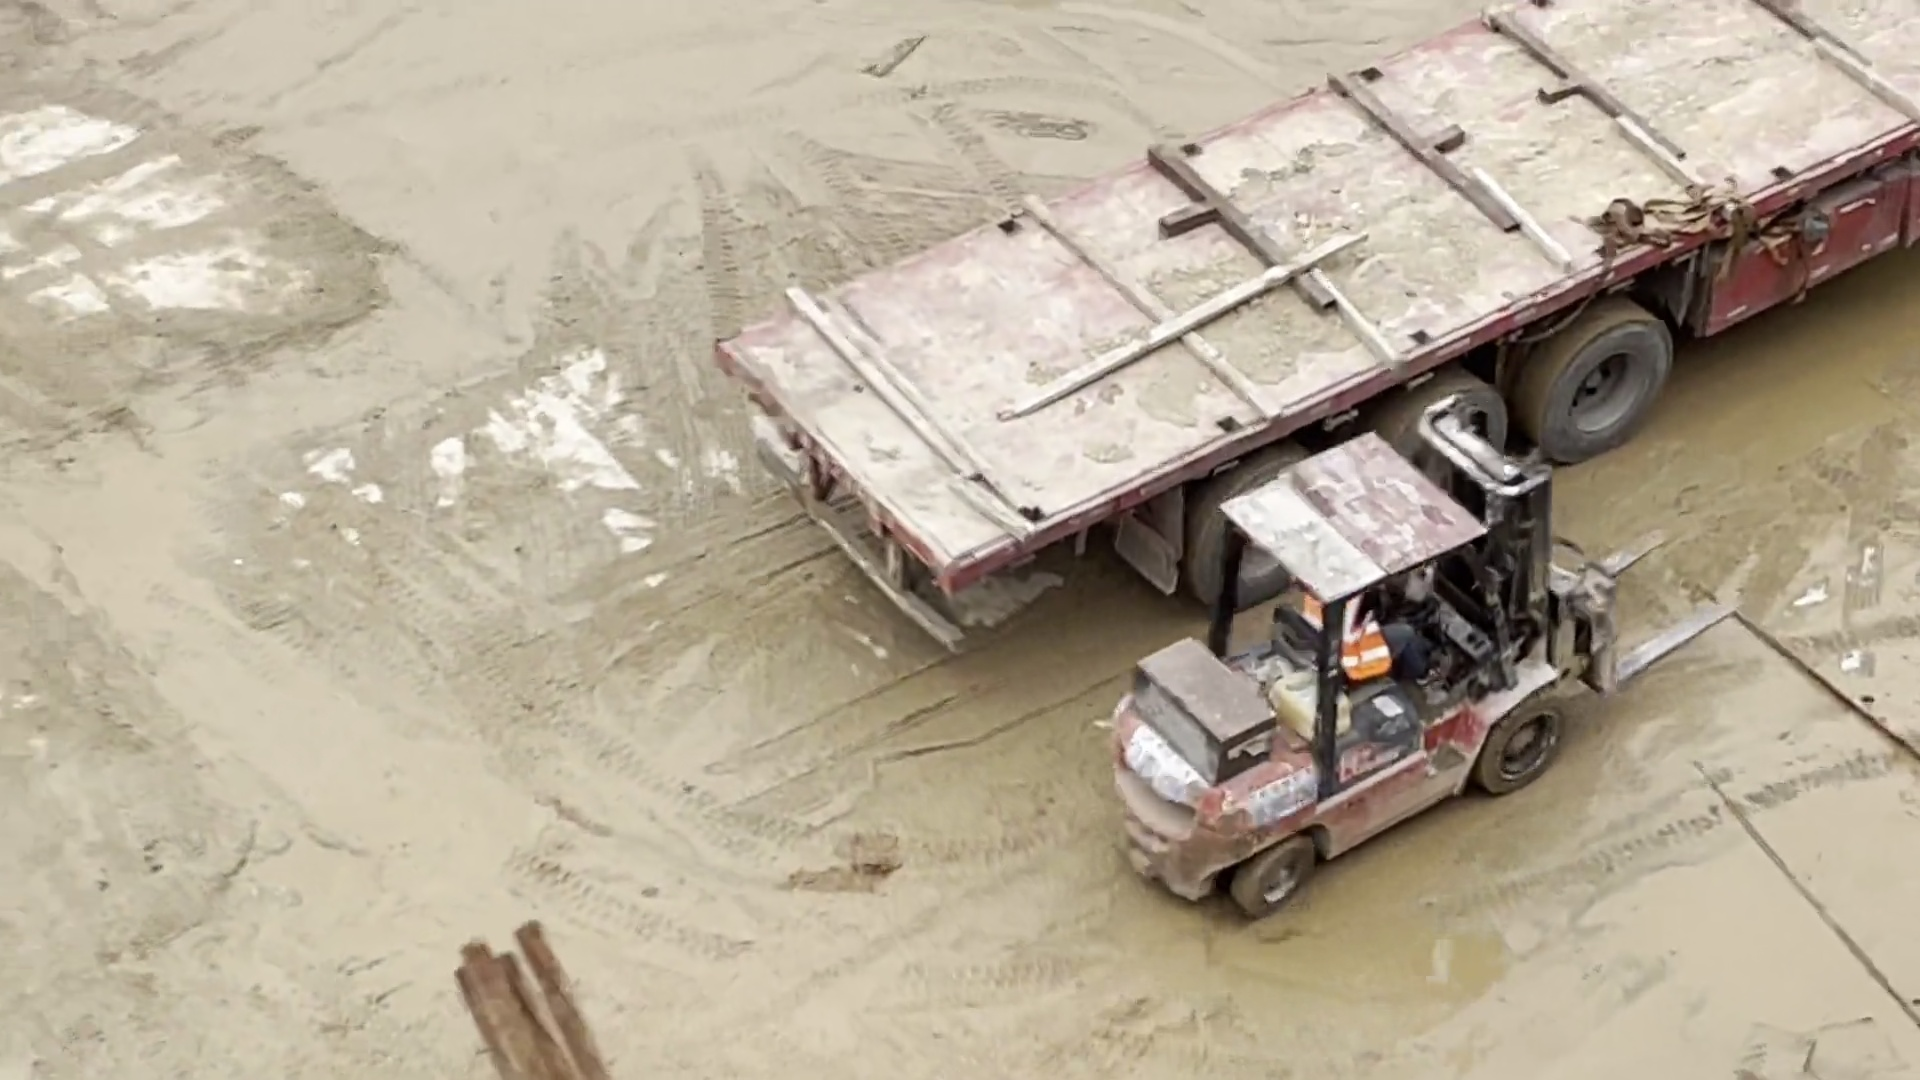person: (1302, 592, 1449, 695)
vest: (1297, 573, 1397, 681)
